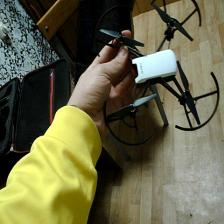drone: (92, 0, 224, 149)
